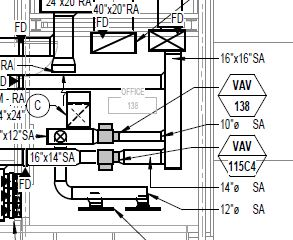VAV: (91, 118, 129, 147), (92, 146, 127, 175)
